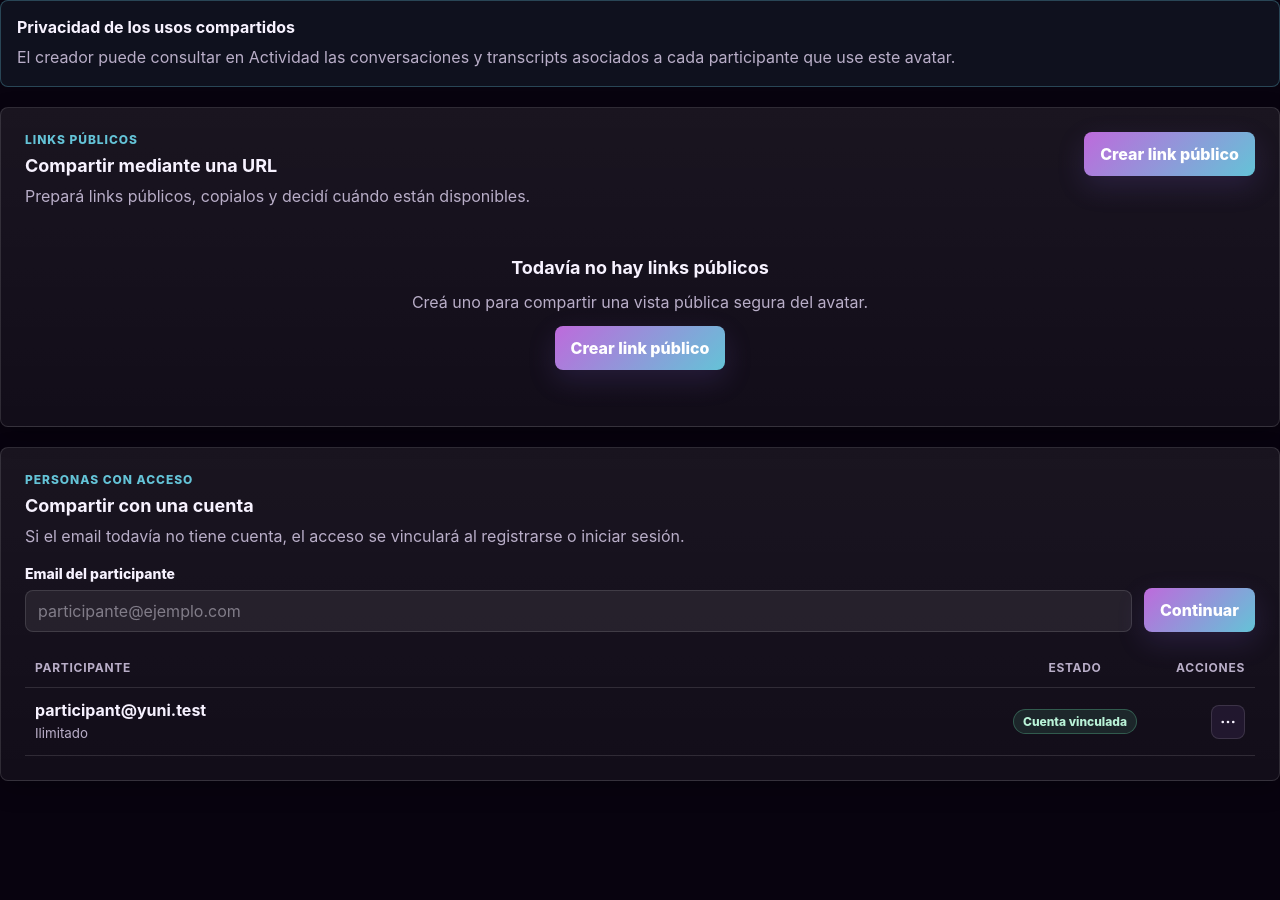
Test: sharing and limits toast feedback › keeps access creation recoverable after a general failure
The image size is (1280, 900).
Type "new-participant@yuni.test" into the field labelled "Email del participante" at (578, 611), box [25,590,1132,632]
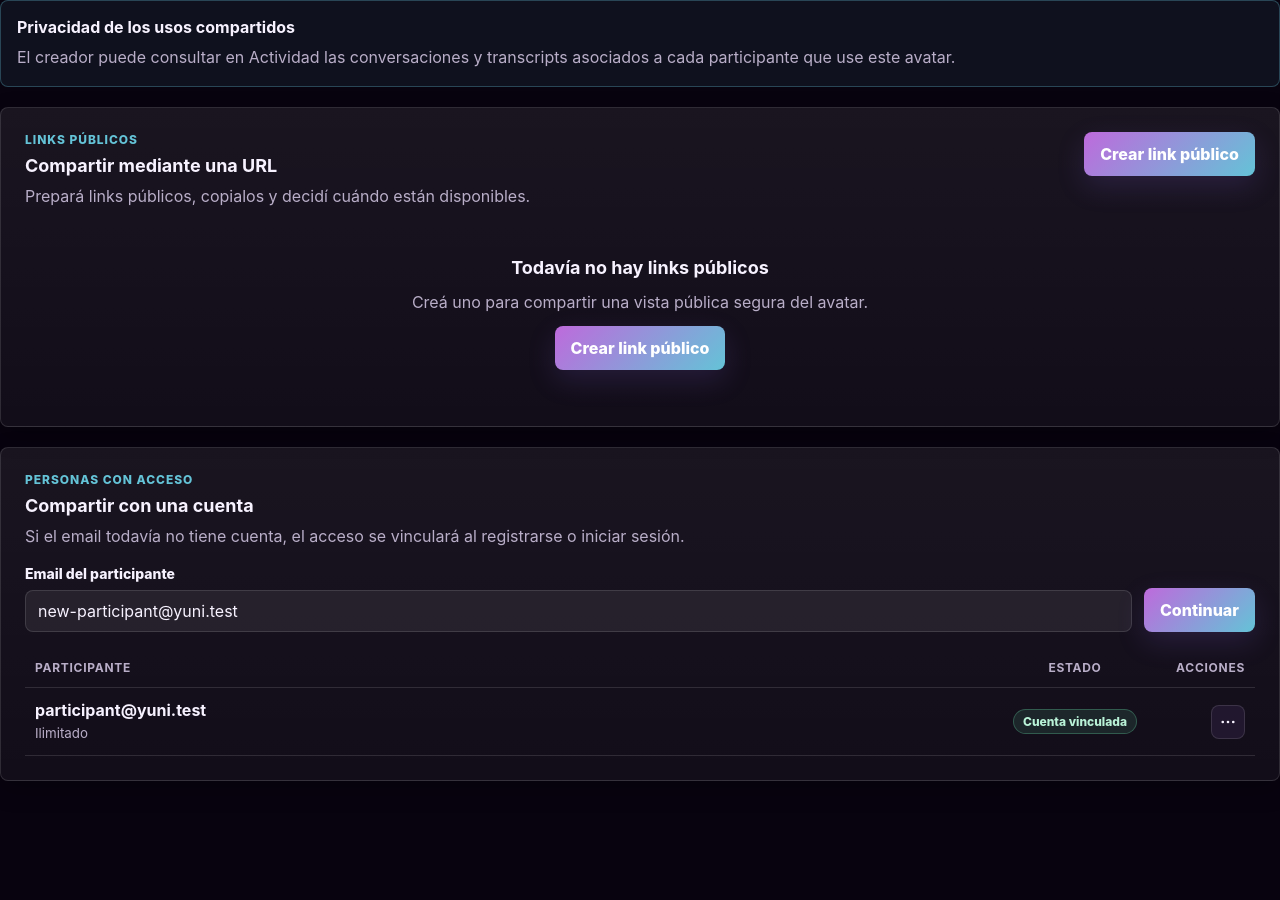
Click the button "Continuar" at (1199, 610), box [1144,588,1255,632]
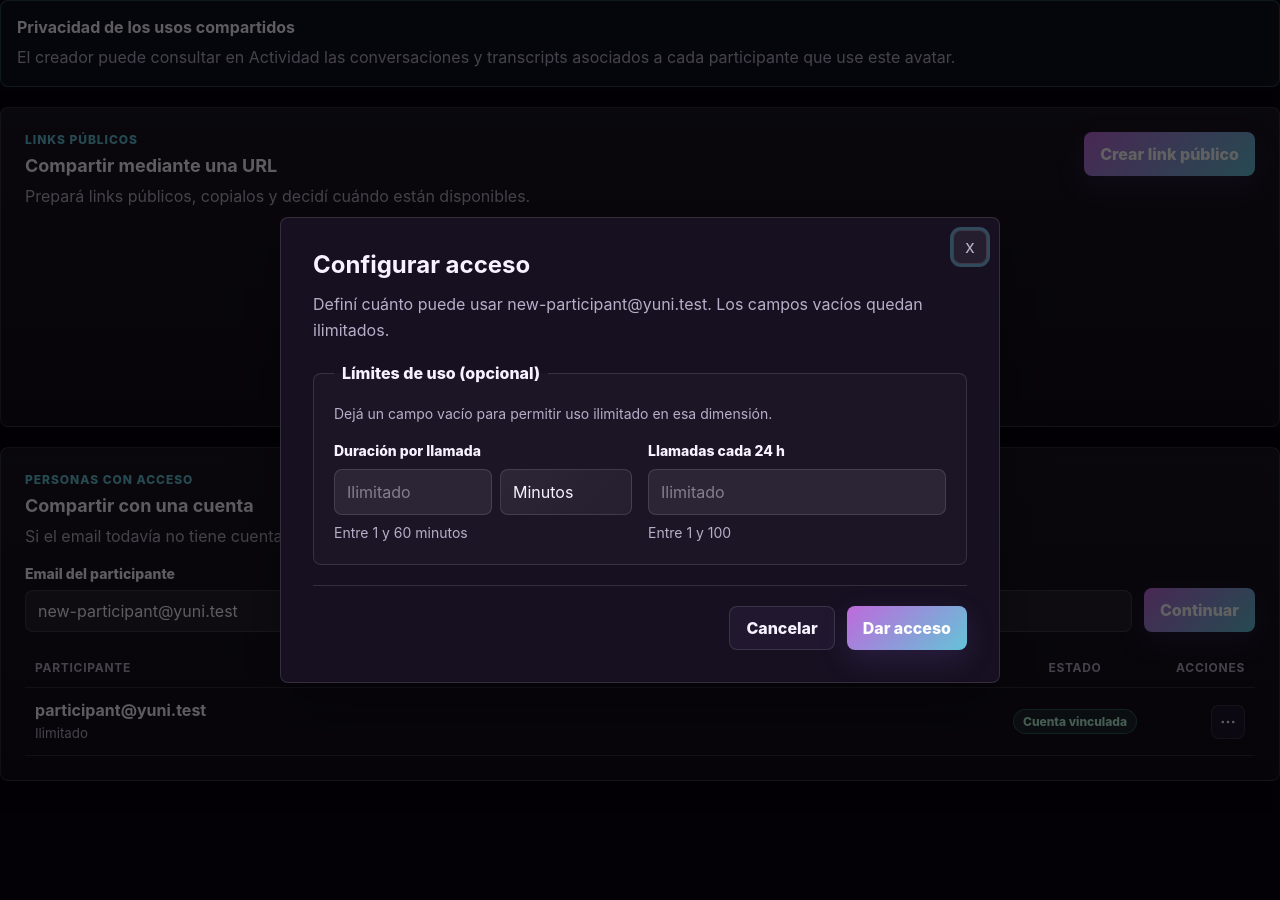
Click the button "Dar acceso" at (907, 628), box [847,606,967,650]
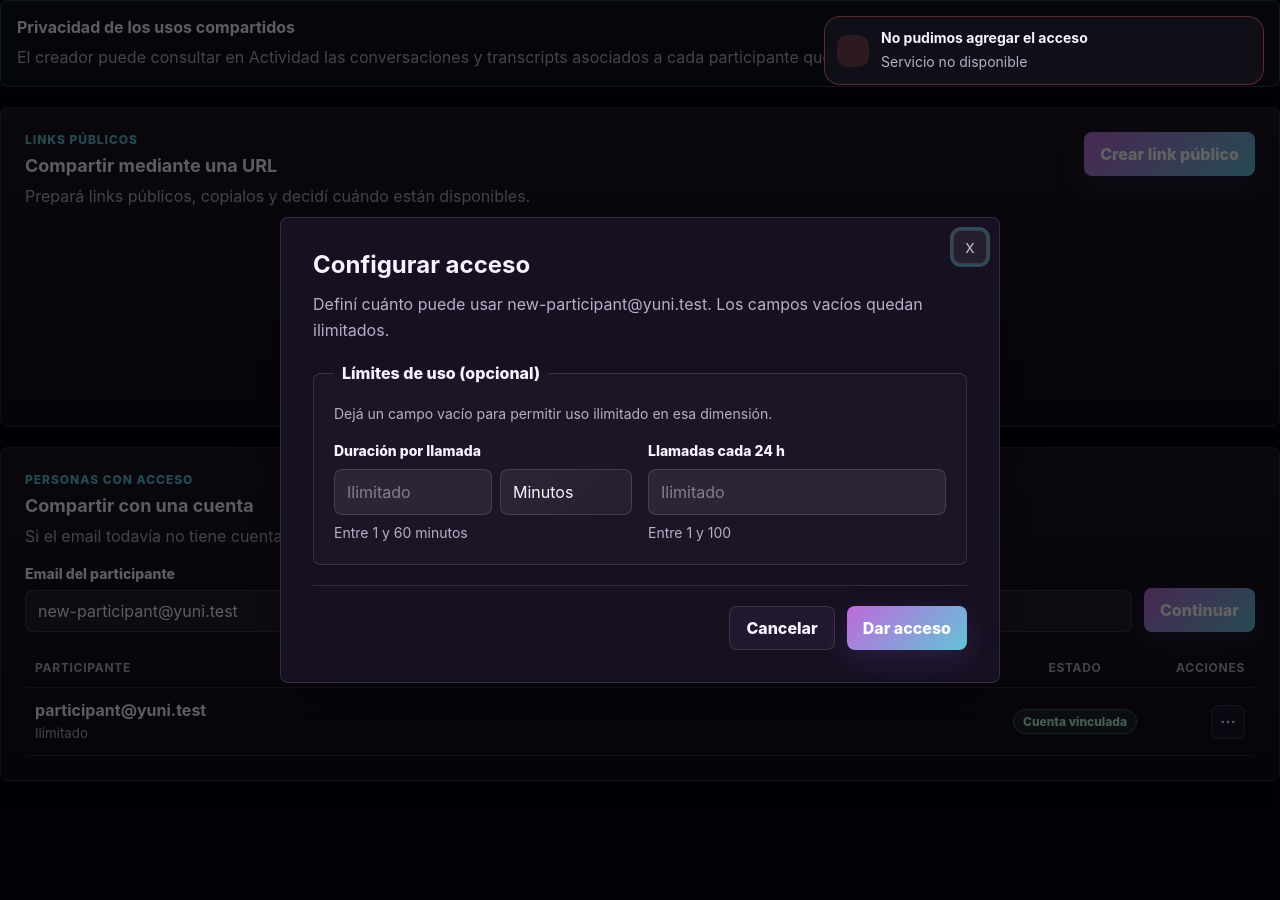
Now the message shows "No pudimos agregar el acceso", box [881,29,1088,46]
